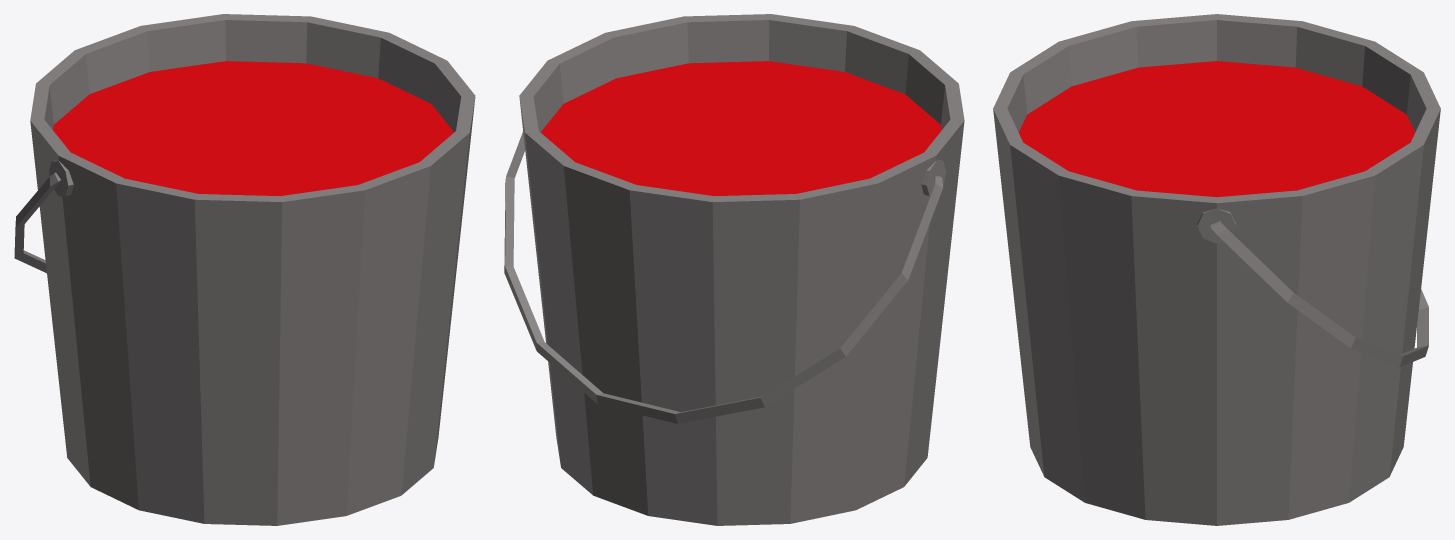
The model's file is paint_bucket.glb.
The picture shows the model from 3 angles, left to right: view 1: azimuth 30°, elevation 25°; view 2: azimuth 150°, elevation 25°; view 3: azimuth 270°, elevation 25°; orthographic projection.
Visible parts, largest first — view 1: Bucket; view 2: Bucket; view 3: Bucket.
Boxes of the visible parts, x1=… form: Bucket: x1=14, y1=14, x2=475, y2=525; Bucket: x1=504, y1=14, x2=964, y2=525; Bucket: x1=993, y1=14, x2=1440, y2=525.
Size of the model in its own units: 0.4783 by 0.3849 by 0.4616.
